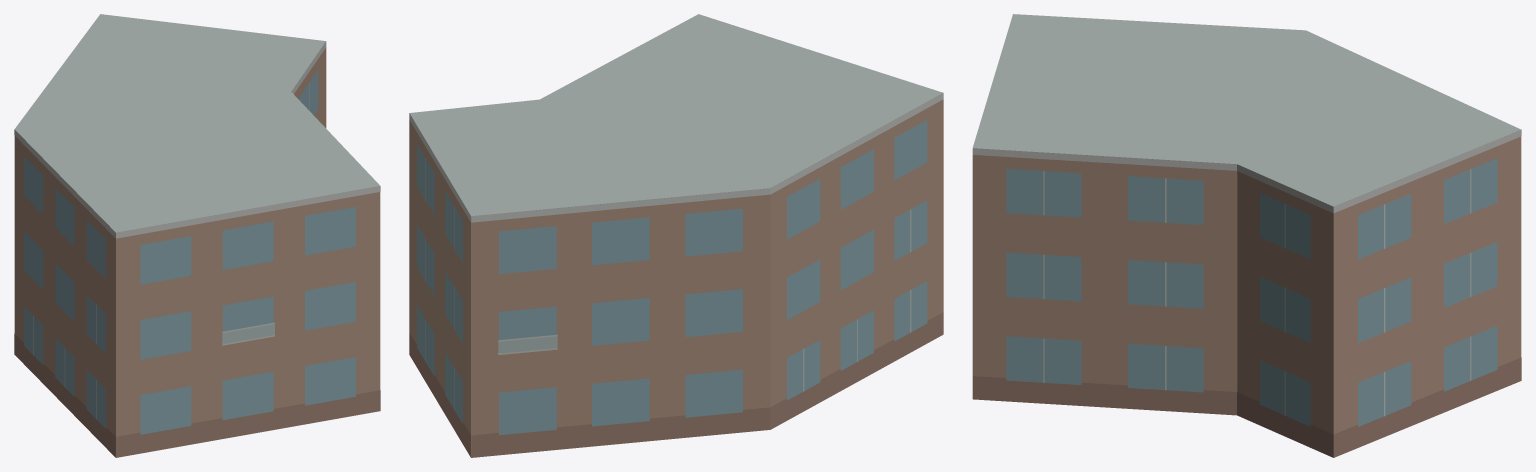
Rendered from residential-c2b41ba5-aed4-45f5-8cfd-b21d7bdcd1d4.glb.
The picture shows the model from 3 angles, left to right: view 1: azimuth 30°, elevation 25°; view 2: azimuth 150°, elevation 25°; view 3: azimuth 270°, elevation 25°; orthographic projection. The views are drawn at different scales.
Visible parts, largest first — view 1: residential-c2b41ba5-aed4-45f5-8cfd-b21d7bdcd1d4.tmp; view 2: residential-c2b41ba5-aed4-45f5-8cfd-b21d7bdcd1d4.tmp; view 3: residential-c2b41ba5-aed4-45f5-8cfd-b21d7bdcd1d4.tmp.
Part boxes in pixels (x1,y1,x2,y2): residential-c2b41ba5-aed4-45f5-8cfd-b21d7bdcd1d4.tmp: [14, 14, 380, 457]; residential-c2b41ba5-aed4-45f5-8cfd-b21d7bdcd1d4.tmp: [409, 14, 943, 457]; residential-c2b41ba5-aed4-45f5-8cfd-b21d7bdcd1d4.tmp: [972, 14, 1521, 457].
Size of the model in its own units: 15.06 by 9.15 by 18.13.
